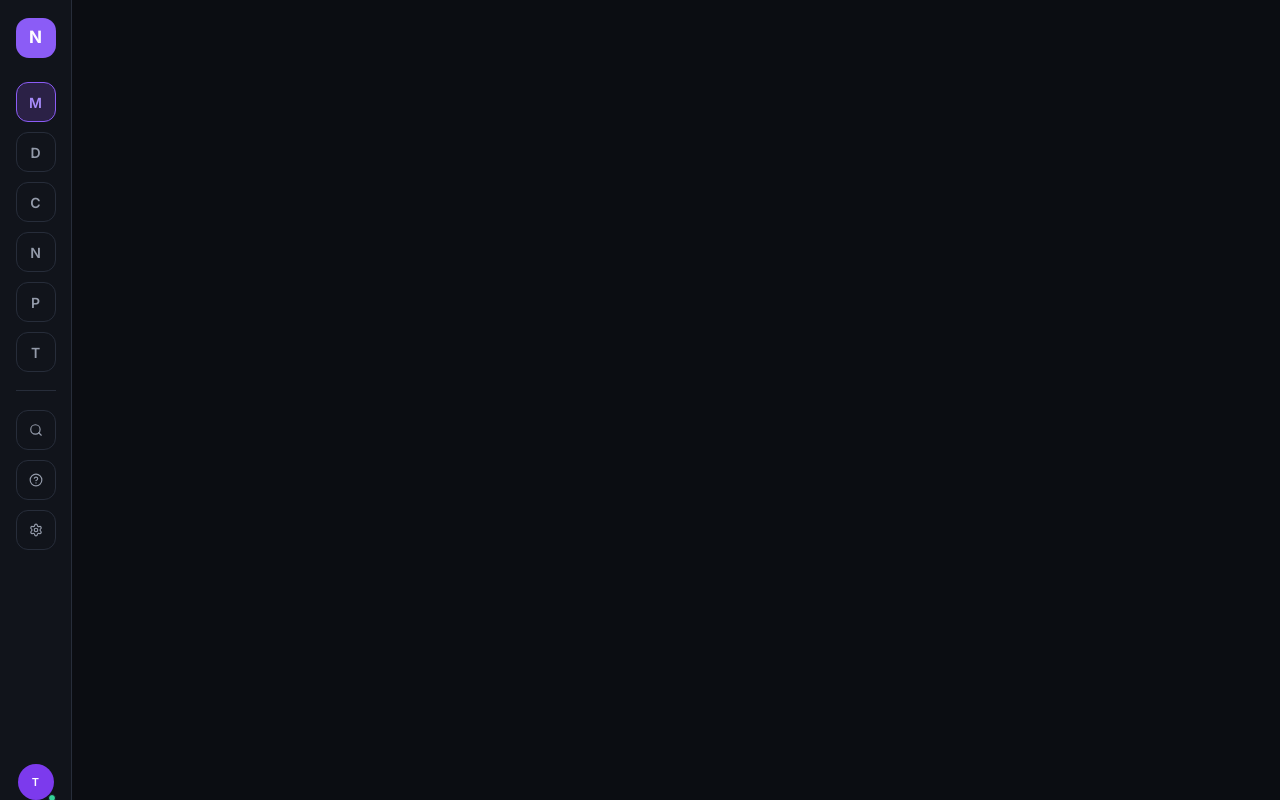
Test: IconDock › clicking M tile opens app switcher
This screenshot has width=1280, height=800.
Click the button "M".
click(36, 102)  # box [16,82,56,122]
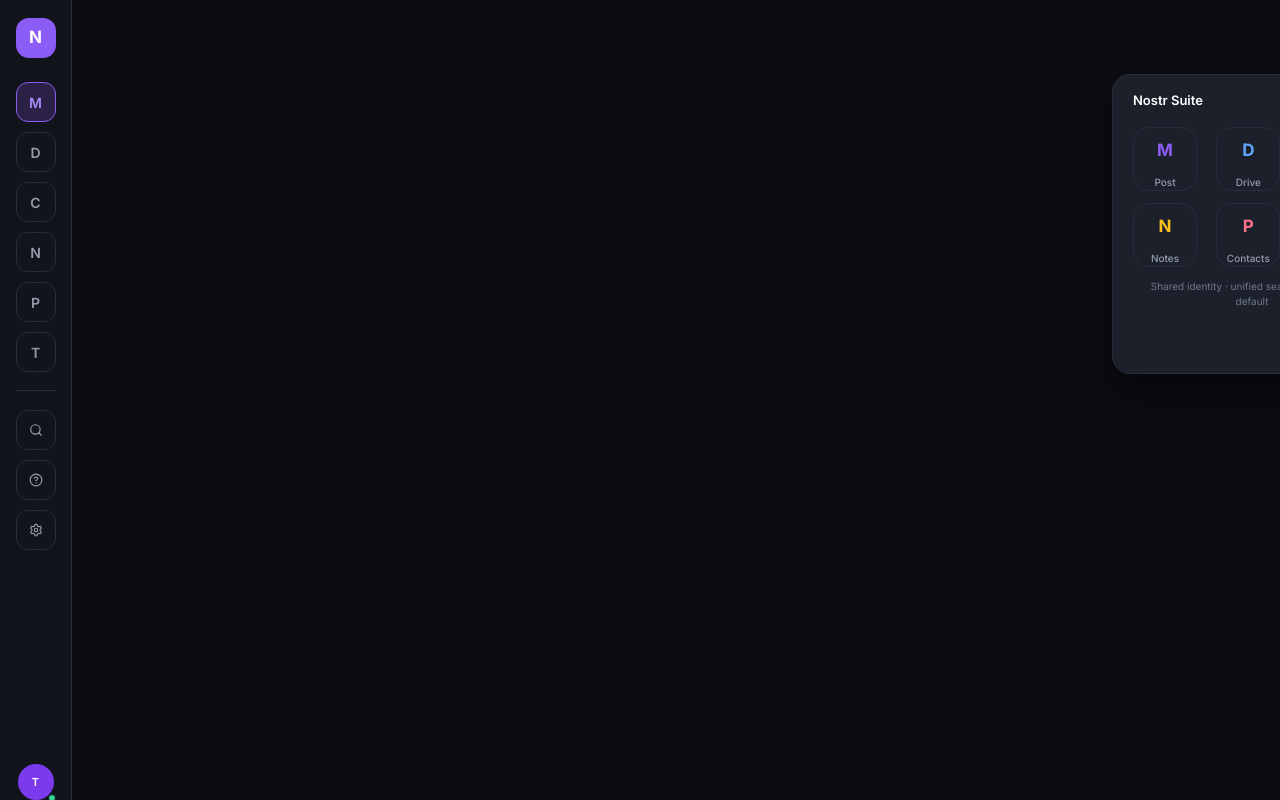
Expected: the text "Nostr Suite" is shown, [1133,91,1203,110]
